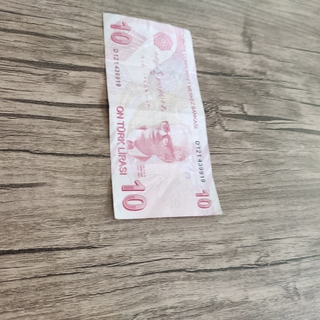10TLBack: (101, 11, 224, 221)
